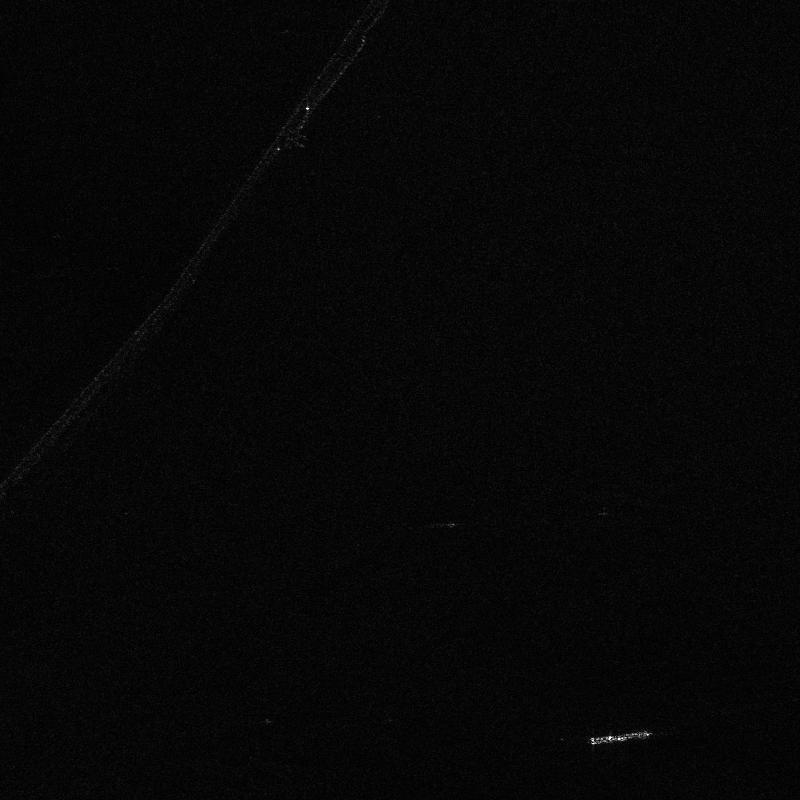ship: (589, 730, 651, 746)
